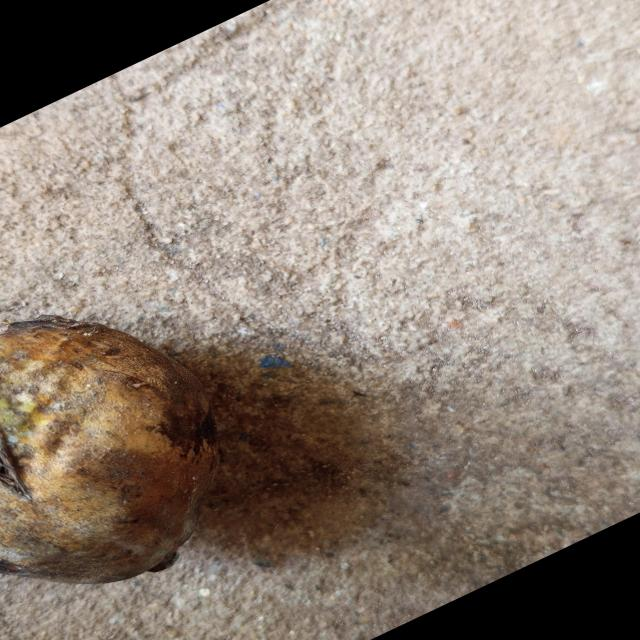damaged: (0, 317, 220, 585)
